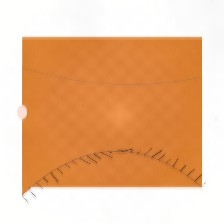pinguecula_lesion: (138, 101, 186, 139)
